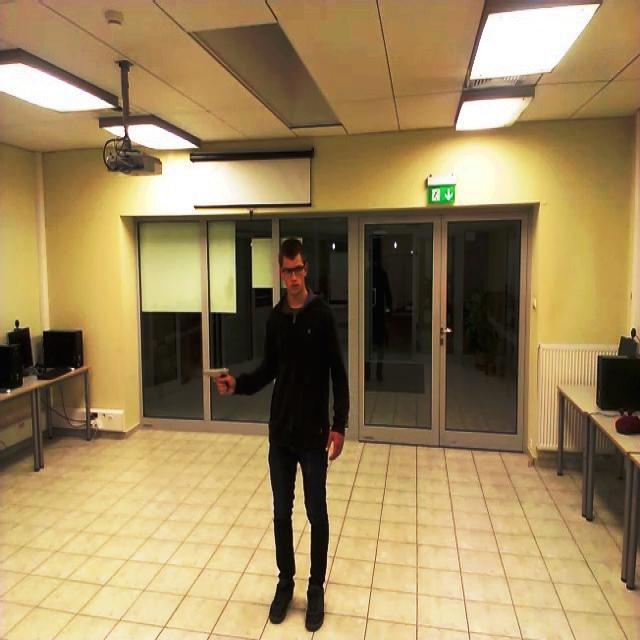Gun: (192, 353, 234, 395)
